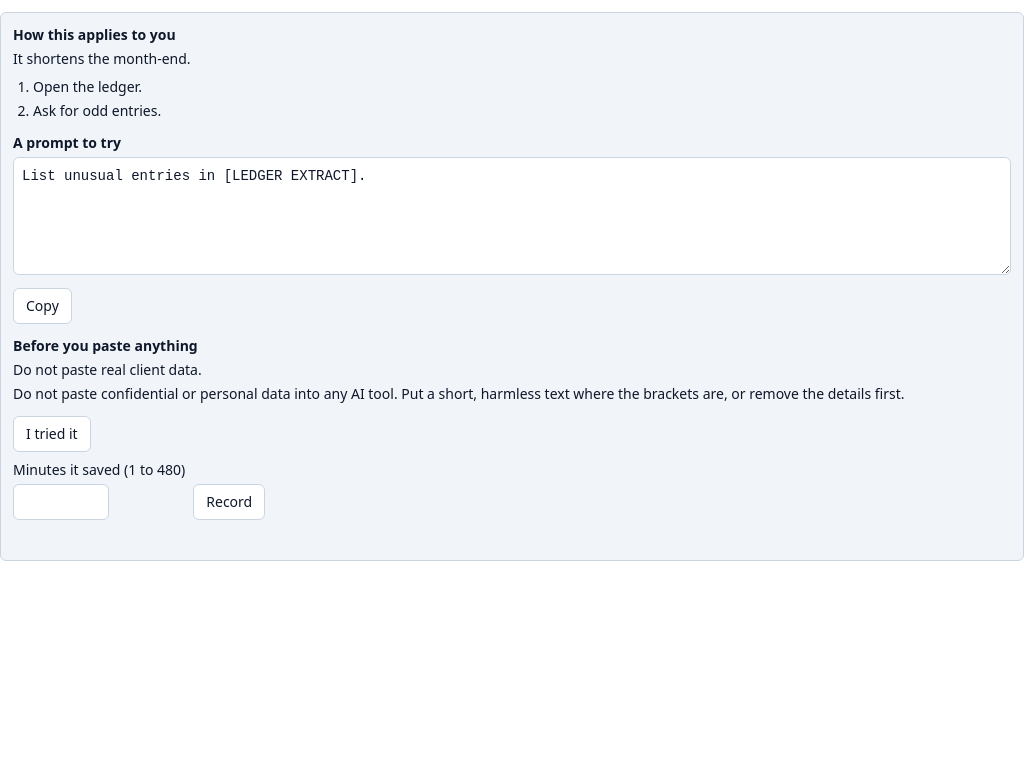
it: copying › selects the text and says what to press when the clipboard is not available
Click the button "Copy" at (42, 306), box [13,288,72,324]
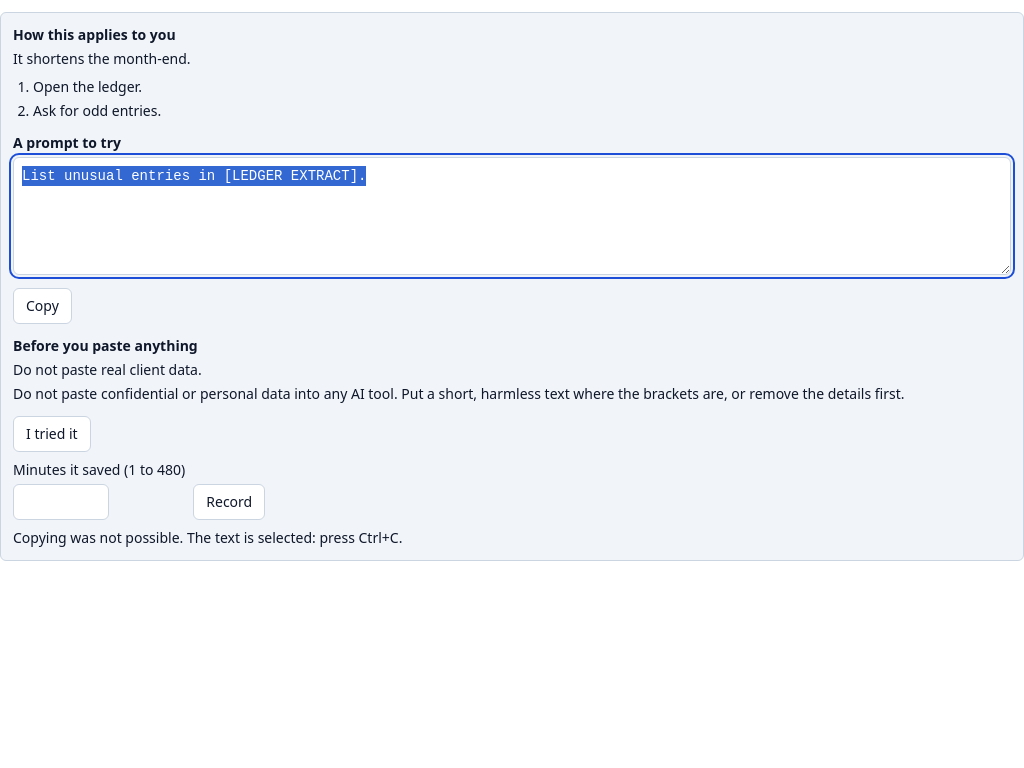
Expected: the text "Copying was not possible. The text is selected: press Ctrl+C." is shown, [13,528,402,547]
